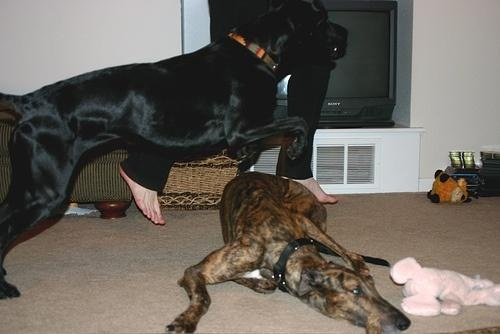dog: (1, 1, 350, 300), (167, 166, 415, 334)
